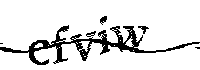c: (28, 37, 52, 68)
f: (52, 21, 70, 68)
i: (96, 15, 112, 56)
v: (70, 30, 96, 63)
w: (111, 22, 148, 52)
